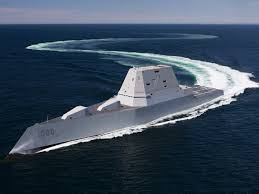tau_muctieu: (12, 67, 219, 152)
